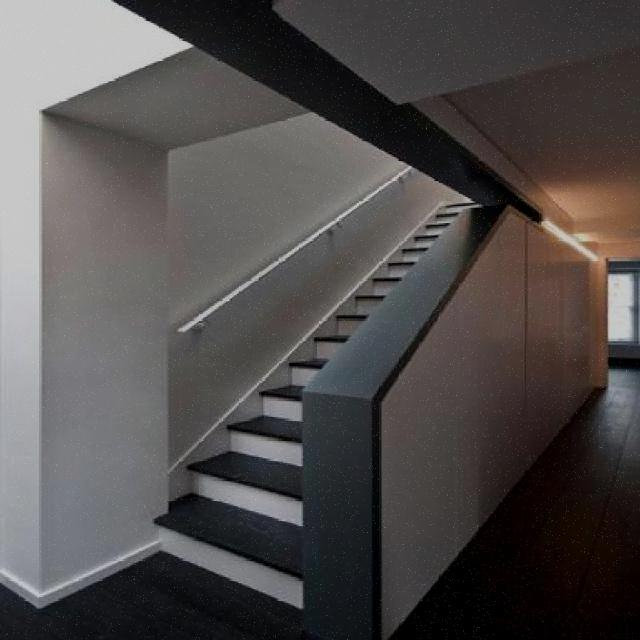stair: (120, 116, 520, 639)
